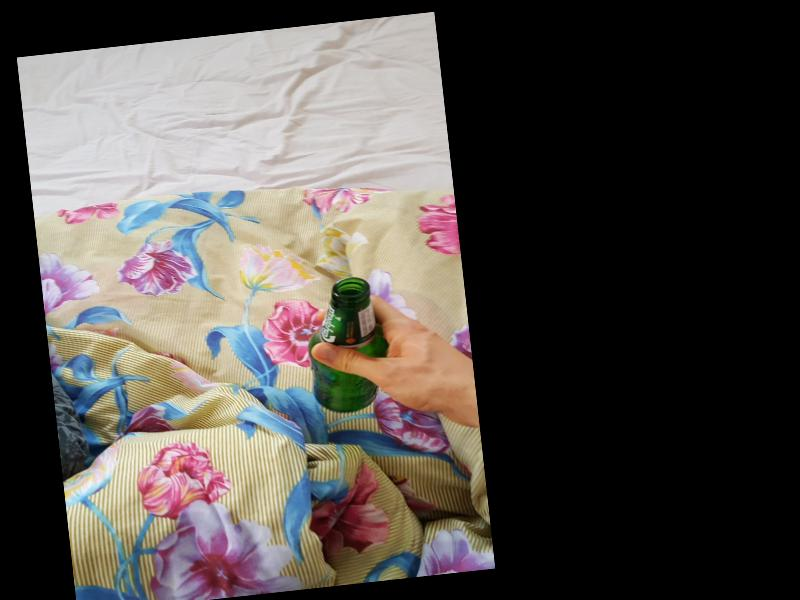Beer: (303, 276, 395, 416)
